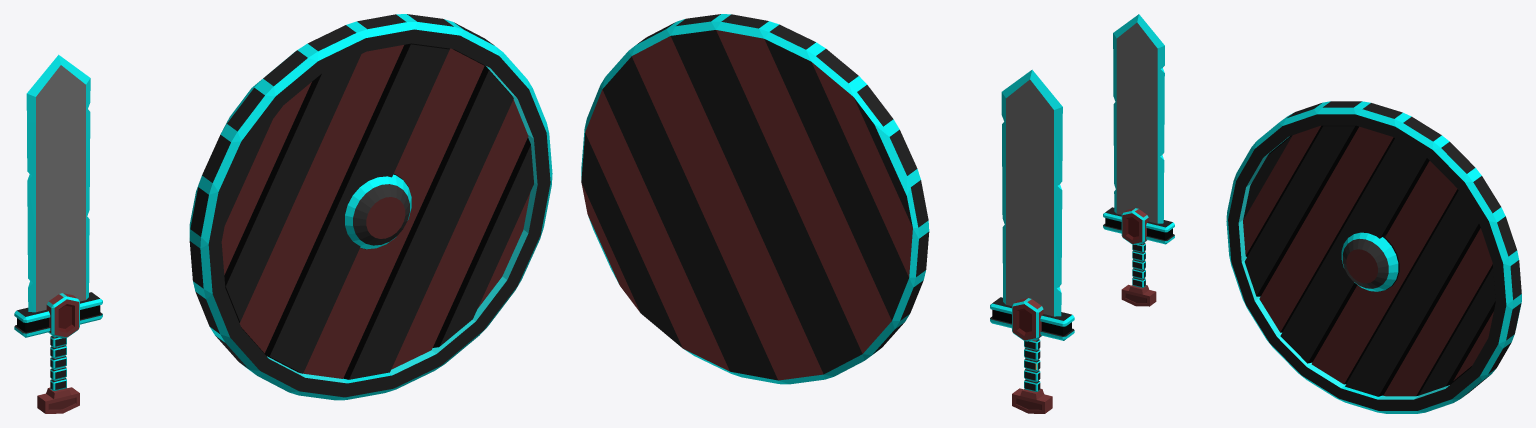
Rendered from EjercicioAtlas3.fbx.
3 renders of one model, left to right at view 1: azimuth 30°, elevation 25°; view 2: azimuth 150°, elevation 25°; view 3: azimuth 330°, elevation 25°, orthographic. The views are drawn at different scales.
Visible parts, largest first — view 1: Cube; view 2: Cube; view 3: Cube.
Part boxes in pixels (x1,y1,x2,y2): Cube: [14, 14, 552, 413]; Cube: [581, 14, 1074, 413]; Cube: [1103, 14, 1521, 413].
Size of the model in its own units: 13587 by 10091 by 1584.
